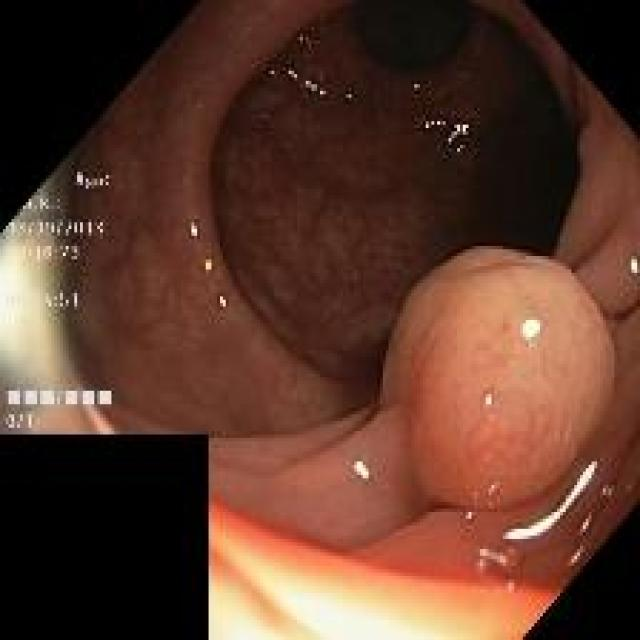Polyps: (381, 249, 615, 508)
